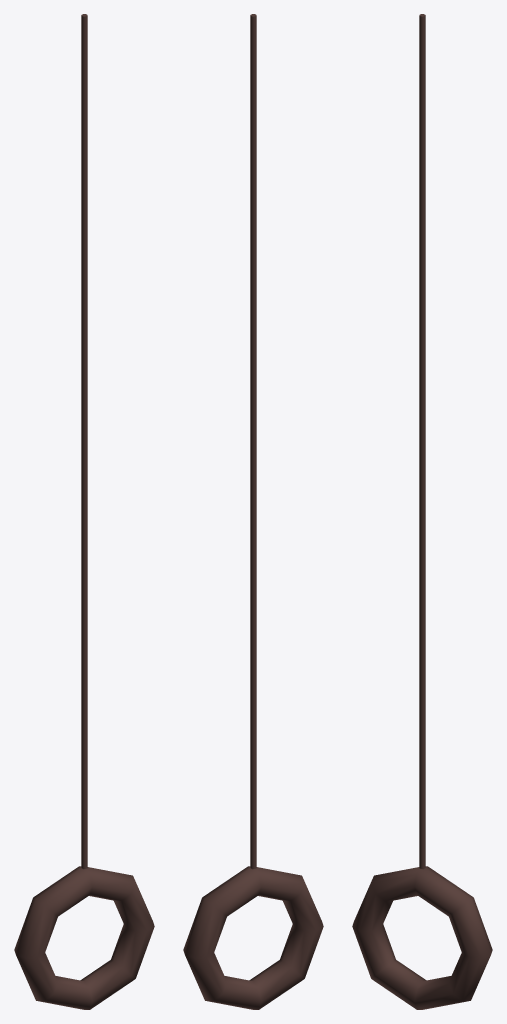
File: dreamcatcher_002.fbx
3 renders of one model, left to right at view 1: azimuth 30°, elevation 25°; view 2: azimuth 210°, elevation 25°; view 3: azimuth 330°, elevation 25°, orthographic.
Visible parts, largest first — view 1: dreamcatcher.002; view 2: dreamcatcher.002; view 3: dreamcatcher.002.
Part boxes in pixels (<box>): dreamcatcher.002: <box>14,14,154,1009</box>; dreamcatcher.002: <box>183,14,323,1009</box>; dreamcatcher.002: <box>352,14,492,1009</box>.
Bounding box in the file's own units: 15.57 × 108 × 3.11.
